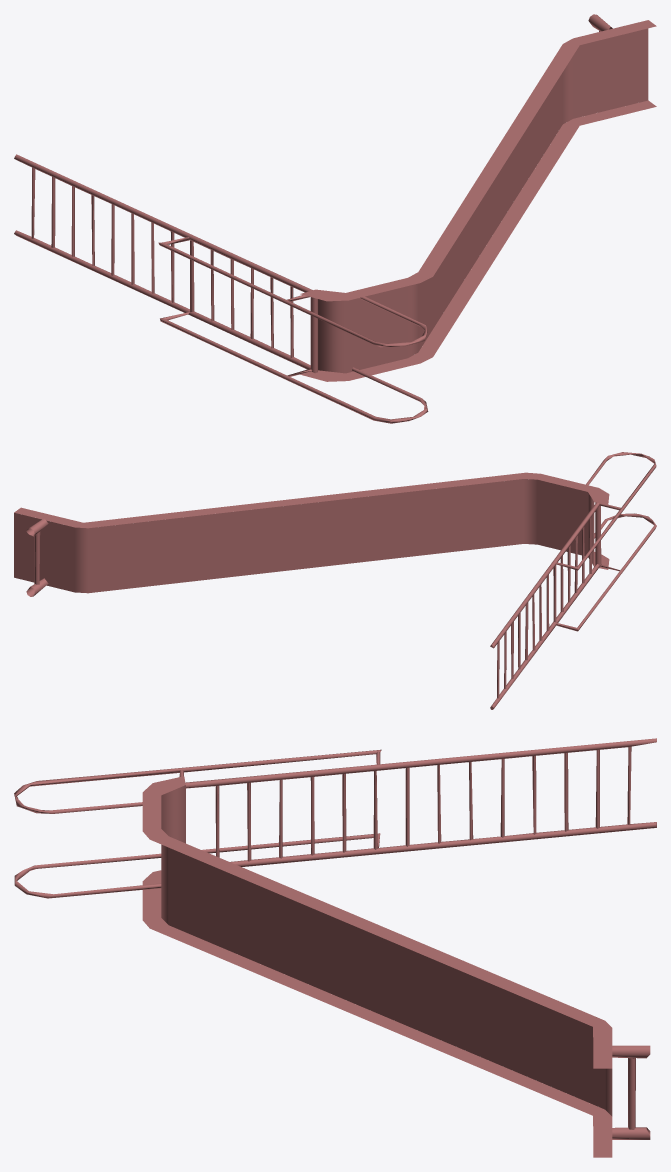
Rendered from slidekaydirak piv cor.fbx.
3 renders of one model, top to bottom at view 1: azimuth 30°, elevation 25°; view 2: azimuth 150°, elevation 25°; view 3: azimuth 270°, elevation 25°, orthographic. The views are drawn at different scales.
Parts seen in each view (by area): view 1: Object_258, Object_259; view 2: Object_258, Object_259; view 3: Object_258, Object_259.
Part boxes in pixels (x1,y1,x2,y2): Object_258: (300, 14, 656, 381); Object_259: (14, 154, 428, 423); Object_258: (14, 472, 609, 596); Object_259: (490, 452, 656, 709); Object_258: (142, 776, 650, 1157); Object_259: (14, 738, 656, 898).
Size of the model in its own units: 290 by 38.41 by 238.
